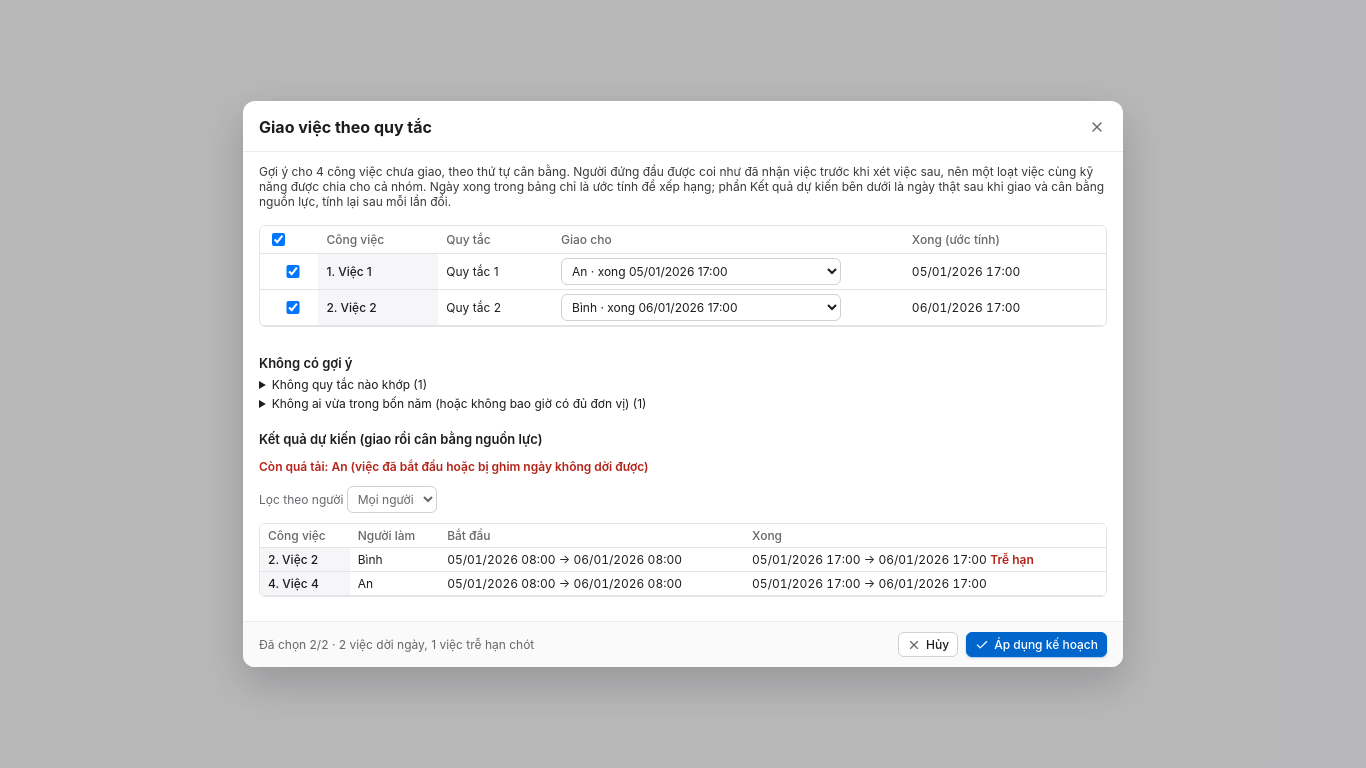
Scenario: AssignPreviewDialog › shows the tasks that move, those late on their deadline and who stays overallocated
Click the checkbox named "Áp dụng cho 2. Việc 2" at (293,308), box [272,301,314,314]
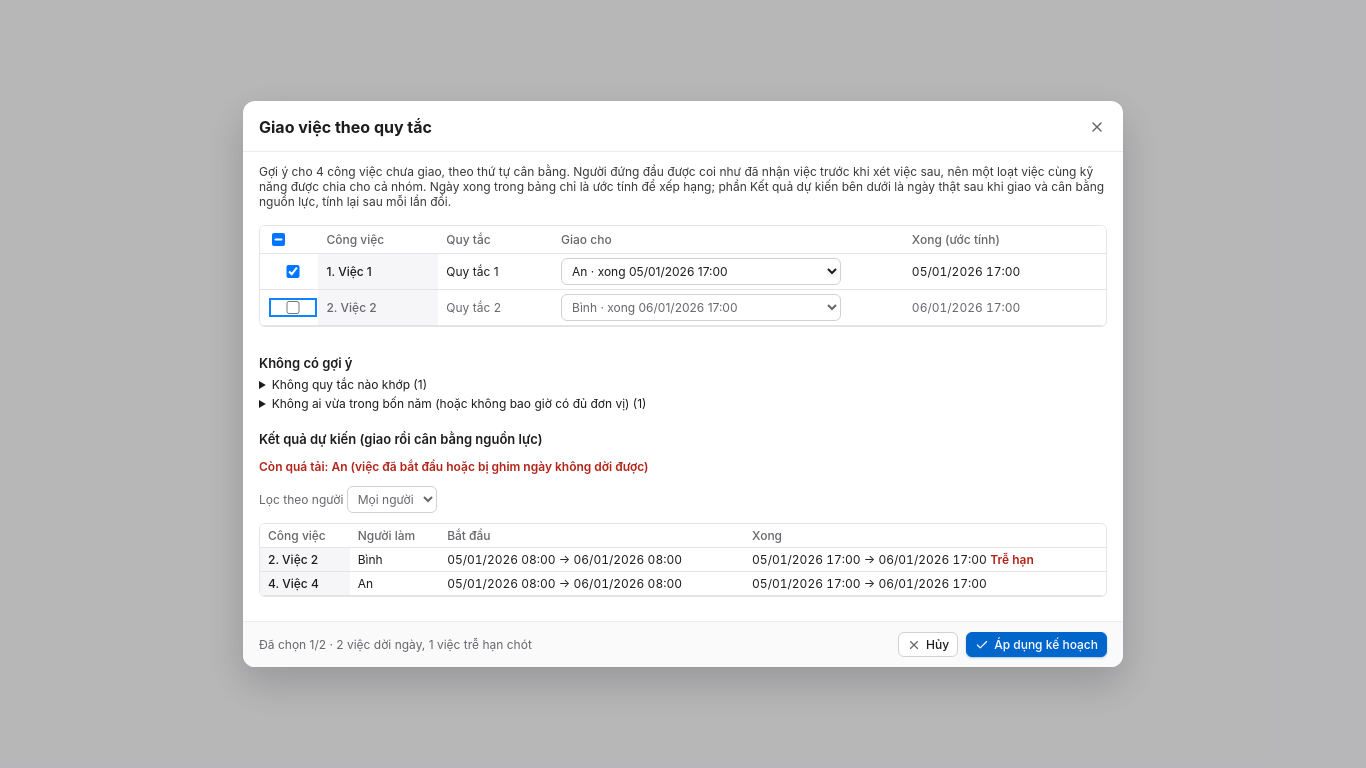
Expected: the row "2. Việc 2" shows "Trễ hạn", [990,552,1034,567]
Expected: the text "Còn quá tải: An" is shown, [259,459,648,474]
# Task 2 goes to Bình: the filter keeps only Bình's moves.
Select "Bình" in the dropdown labelled "Lọc theo người" at (392,500), box [347,486,437,513]
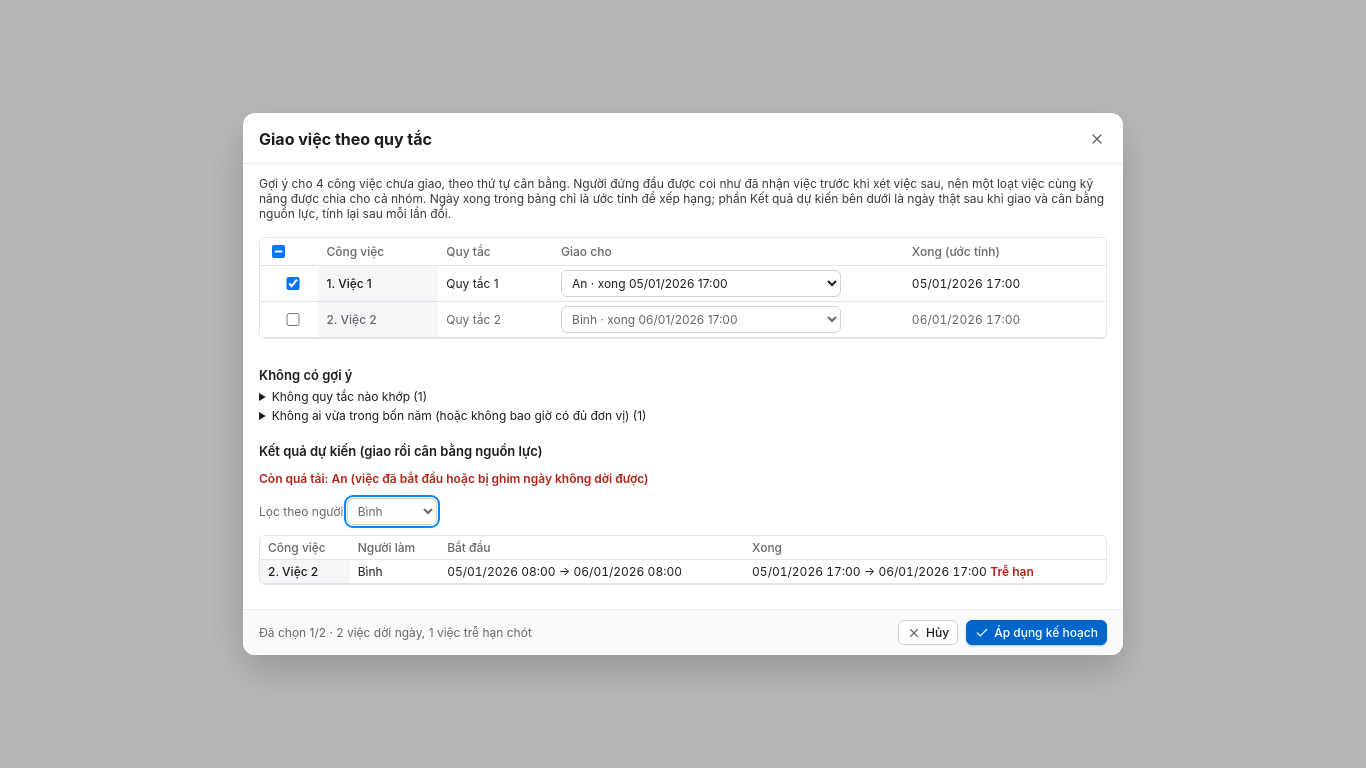
Now the column heading "4. Việc 4" is gone
